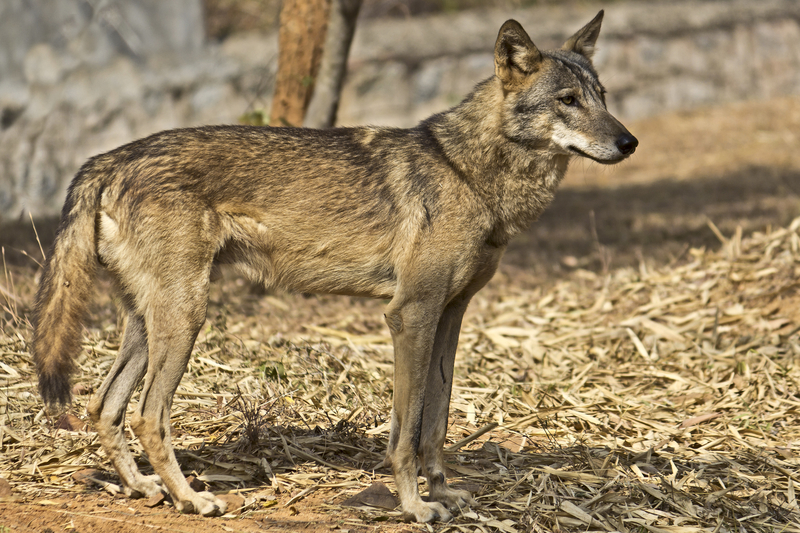wolf: (25, 30, 631, 513)
